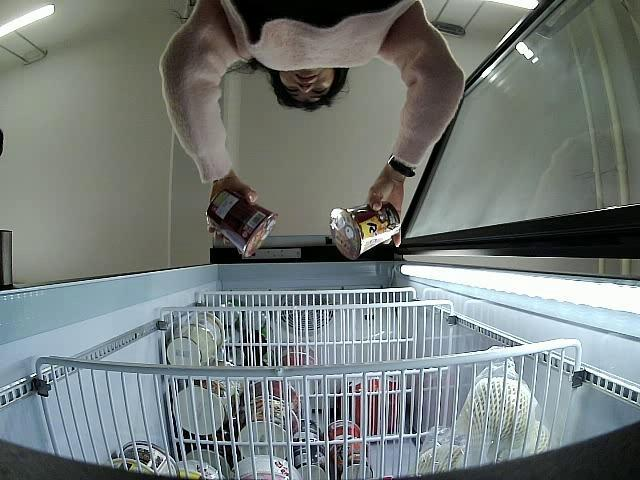06_nuguri_S: (205, 189, 279, 260), (332, 200, 402, 260)
